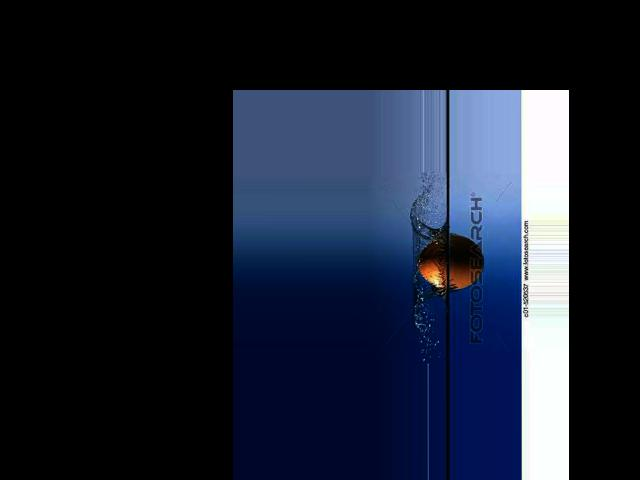egg: (417, 235, 483, 289)
